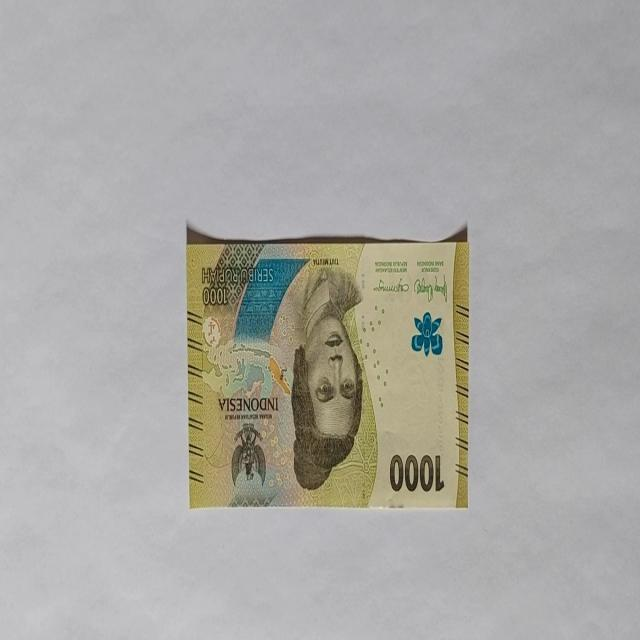seribu rupiah kertas: (186, 230, 470, 510)
